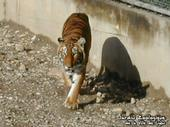Tigre: (56, 11, 93, 116)
